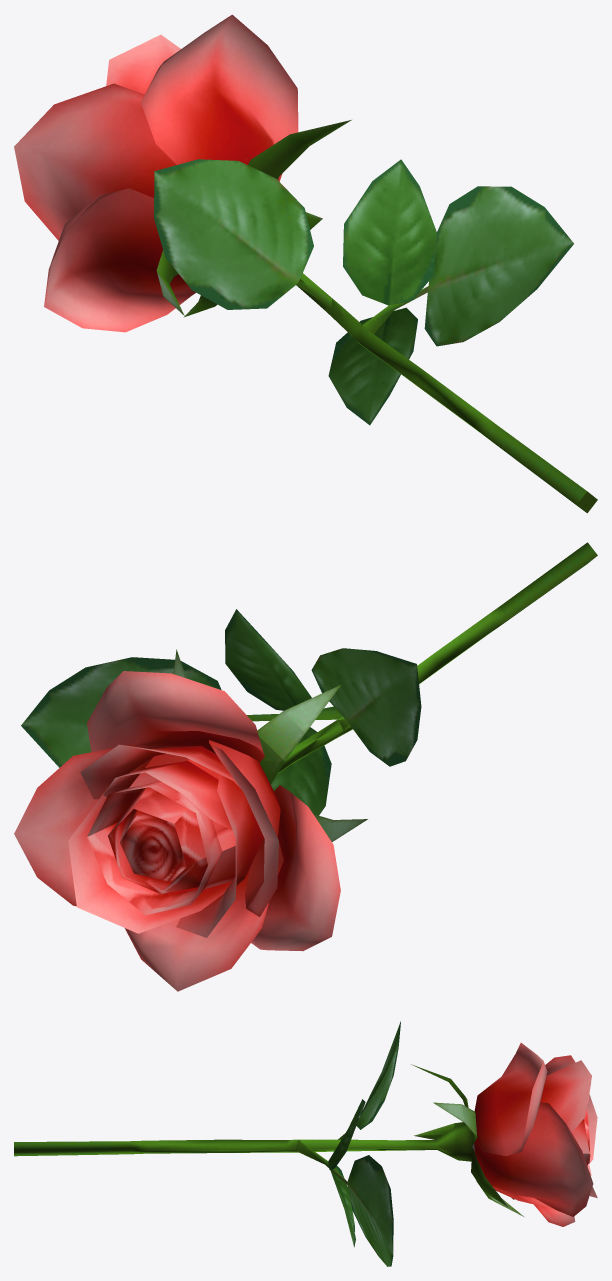
File: rose.gltf
3 views of the same model, one above another, from view 1: azimuth 30°, elevation 25°; view 2: azimuth 150°, elevation 25°; view 3: azimuth 270°, elevation 25° (orthographic). The views are drawn at different scales.
Visible parts, largest first — view 1: Rosediss; view 2: Rosediss; view 3: Rosediss.
Boxes of the visible parts, x1,y1,x2,y2 form: Rosediss: [14, 14, 597, 513]; Rosediss: [14, 542, 597, 991]; Rosediss: [14, 1021, 597, 1266].
Bounding box in the file's own units: 0.9377 × 0.6278 × 1.74.
1 material, 1 textured.
